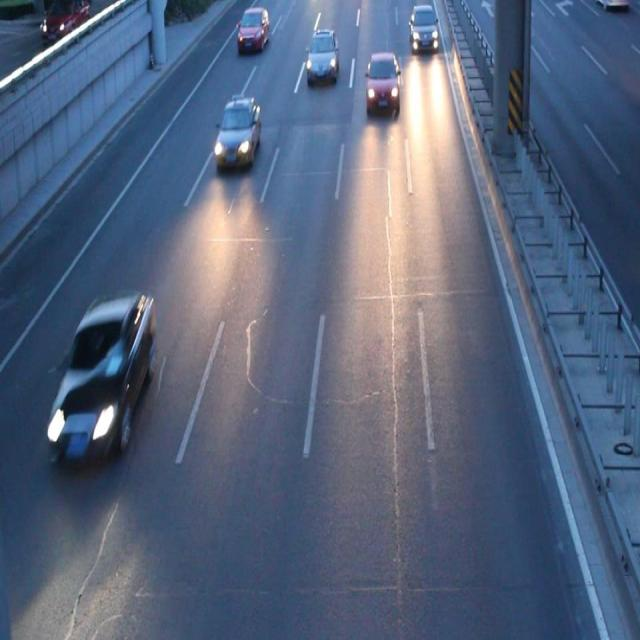car: (43, 292, 155, 458), (214, 95, 260, 168), (365, 52, 400, 113), (305, 29, 339, 80), (407, 1, 438, 54), (237, 9, 268, 50)
